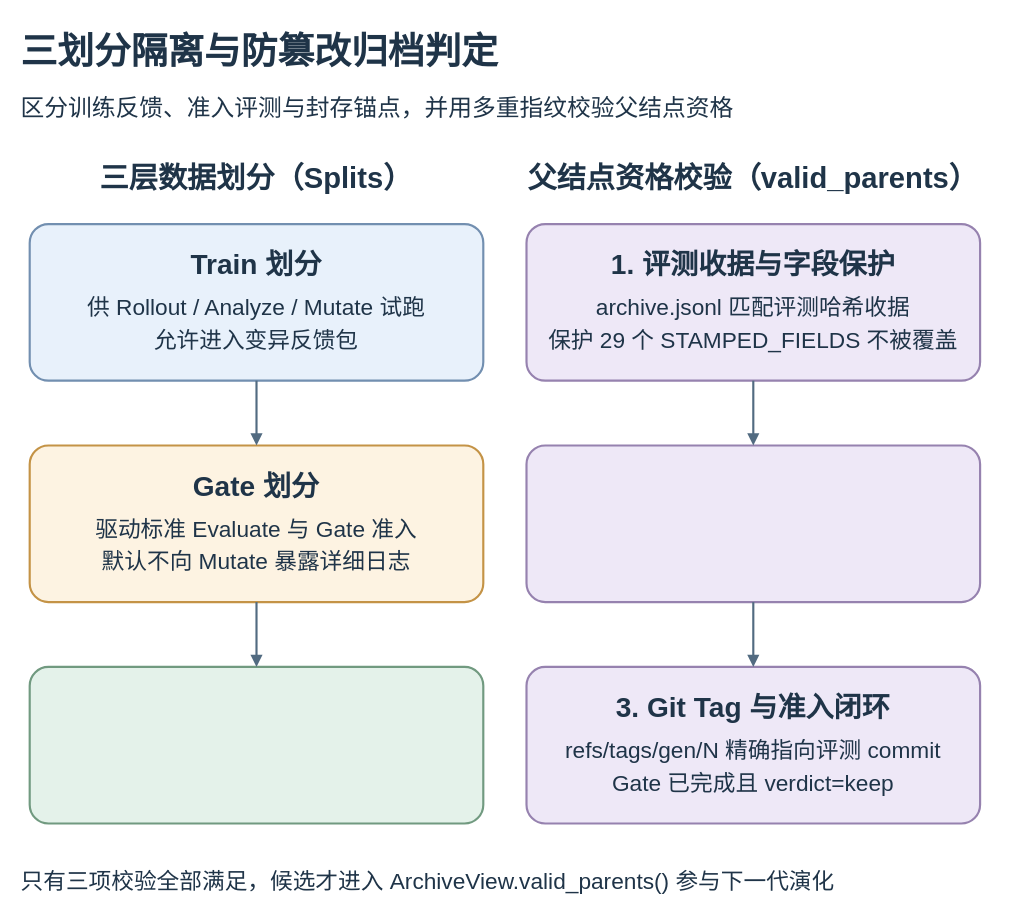
Some shapes in this 1009 by 922 pixel diagram are drawn without their labels. The box of each missing label's shape, as (x1, y1, x2, y2) in pixels:
2. 固定评测契约对齐 evaluator_fingerprint + task_set_hash + runtime_fingerprint 与基线一致: (525, 444, 981, 603)
Sealed 封存划分 仅作 gen/0 与最终 Champion 的 Anchor 不参与父结点选择，隔绝变异反馈: (28, 665, 484, 824)
